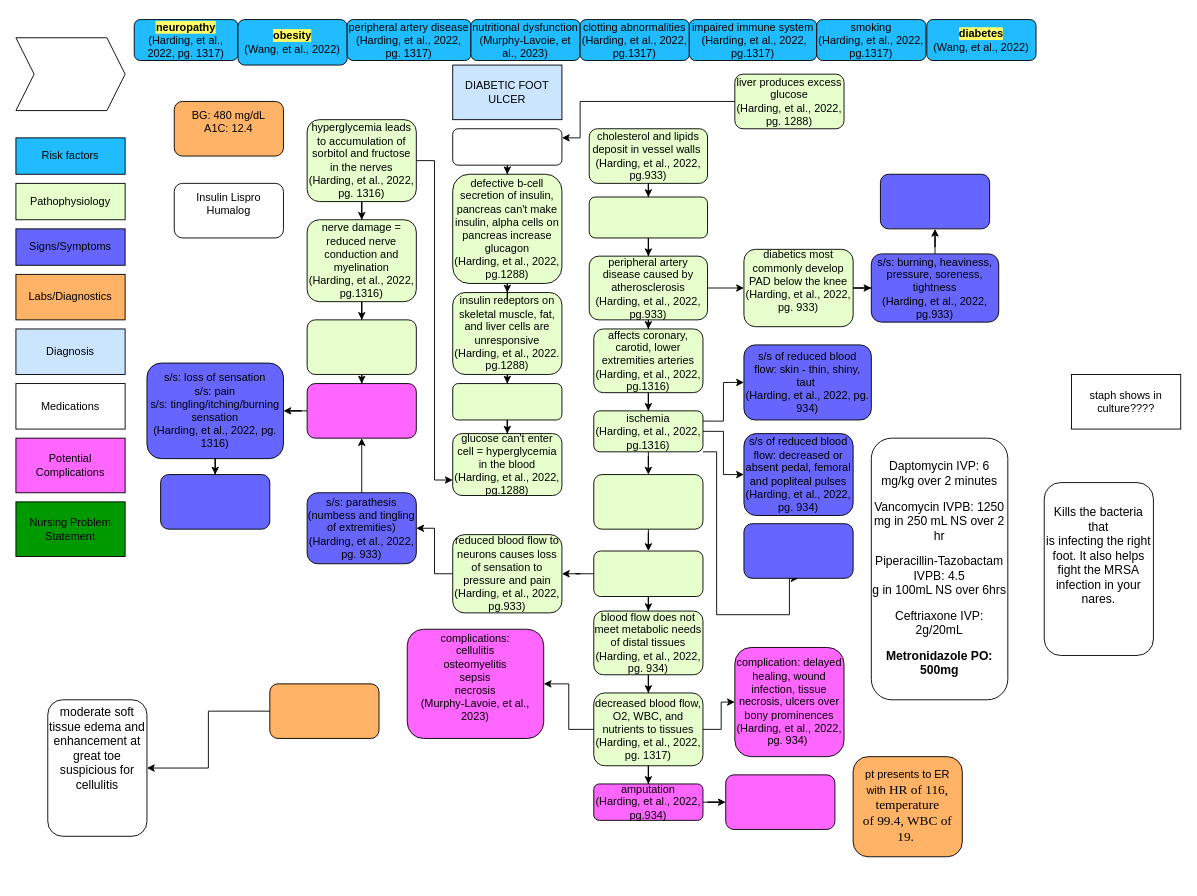
Some shapes in this 1197 by 896 pixel diagram are drawn without their labels. The shapes that lost their labels are listed below. From the top down, each one's centre as x and y in pixels, then its label:
point 70,74: C.C. 58 y/o M FULL CODE Admitted: 09/04/24
point 507,146: diabetes
point 648,217: narrowing of the artery (Harding, et al., 2022, pg. 933)
point 935,201: pt reports pain from knee to foot (8/10)
point 361,346: ischemia to tissues and organs (Harding, et al., 2022, pg. 1316)
point 361,410: sensory neuropathy (Harding, et al., 2022, pg.1316)
point 507,401: insulin resistance Harding, et al., 2022, pg.1288)
point 215,501: pt reports numbess and tingling under right foot
point 648,501: atrophy of skin and muscles (Harding, et al., 2022, pg. 933)
point 798,550: s/s of reduced blood flow: pain developing at rest near the foot L934
point 648,573: nerve tissue ischemia (Harding, et al., 2022, pg. 933)
point 324,710: MRI FOOT RIGHT WO CONTRAST
point 780,801: pt had amputation pf right big toe on 09/06 along with wound vac attached
